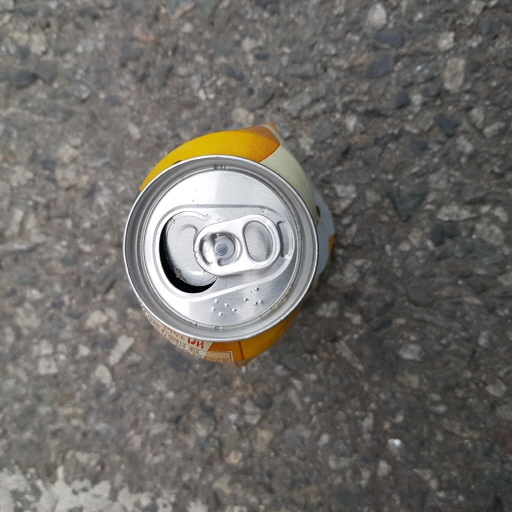Metal_0: (121, 120, 338, 364)
